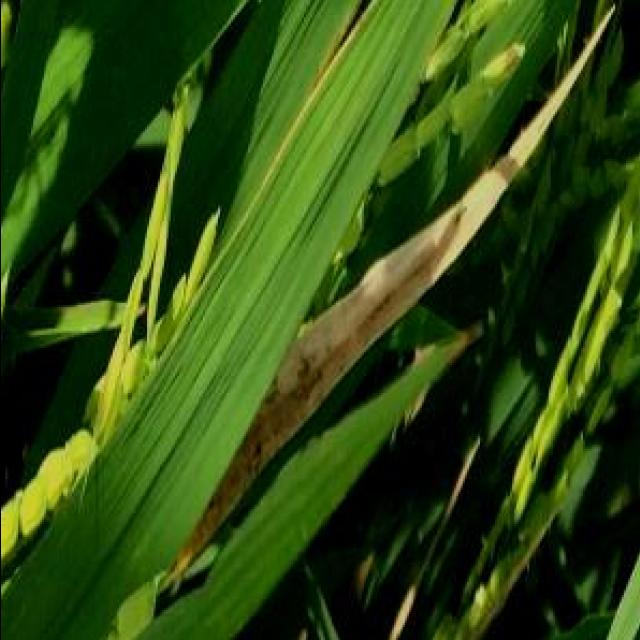Bacterial_Leaf_Blight: (260, 0, 393, 189)
